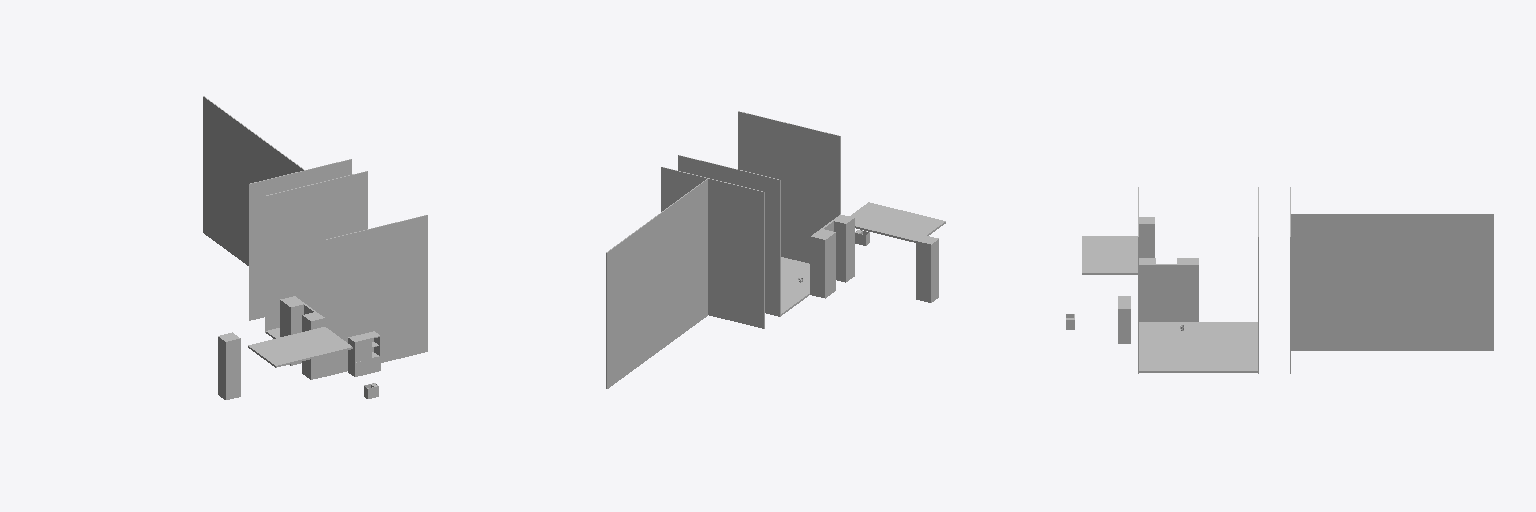
Rendered from room3.obj.
3 renders of one model, left to right at view 1: azimuth 30°, elevation 25°; view 2: azimuth 150°, elevation 25°; view 3: azimuth 270°, elevation 25°, orthographic.
Parts seen in each view (by area): view 1: group31 pCube91, group31 pCube93, group31 pCube94, group31 pCube95, group31 pCube90, group31 pCube86, group31 pCube78, group31 pCube89, group31 pCube87; view 2: group31 pCube94, group31 pCube91, group31 pCube95, group31 pCube93, group31 pCube90, group31 pCube89, group31 pCube86, group31 pCube96, group31 pCube87; view 3: group31 pCube94, group31 pCube96, group31 pCube90, group31 pCube89, group31 pCube88, group31 pCube87, group31 pCube86, group31 pCube78.
Part boxes in pixels (x1,y1,x2,y2): group31 pCube91: (325,215,427,376); group31 pCube93: (265,171,367,332); group31 pCube94: (203,96,303,265); group31 pCube95: (249,159,351,320); group31 pCube90: (248,327,352,367); group31 pCube86: (218,332,240,399); group31 pCube78: (348,331,380,376); group31 pCube89: (280,296,304,365); group31 pCube87: (302,312,324,379); group31 pCube94: (606,178,707,388); group31 pCube91: (738,111,840,263); group31 pCube95: (661,167,764,328); group31 pCube93: (678,155,780,316); group31 pCube90: (849,202,945,242); group31 pCube89: (810,229,835,298); group31 pCube86: (916,235,938,302); group31 pCube96: (781,257,809,315); group31 pCube87: (832,214,854,282); group31 pCube94: (1291,214,1493,350); group31 pCube96: (1139,322,1257,372); group31 pCube90: (1082,236,1137,274); group31 pCube89: (1177,258,1198,321); group31 pCube88: (1156,264,1176,321); group31 pCube87: (1139,258,1155,321); group31 pCube86: (1139,217,1154,257); group31 pCube78: (1118,296,1130,343).
Bounding box in the file's own units: 1081 × 700 × 1985.